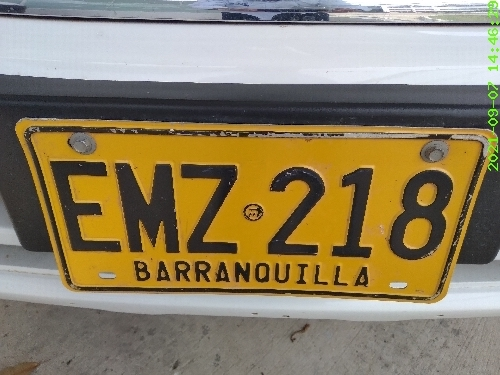number_plate: (21, 117, 489, 299)
